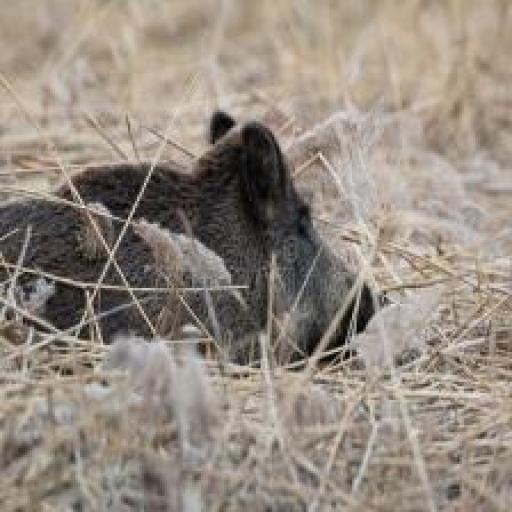Pig: (0, 108, 374, 372)
